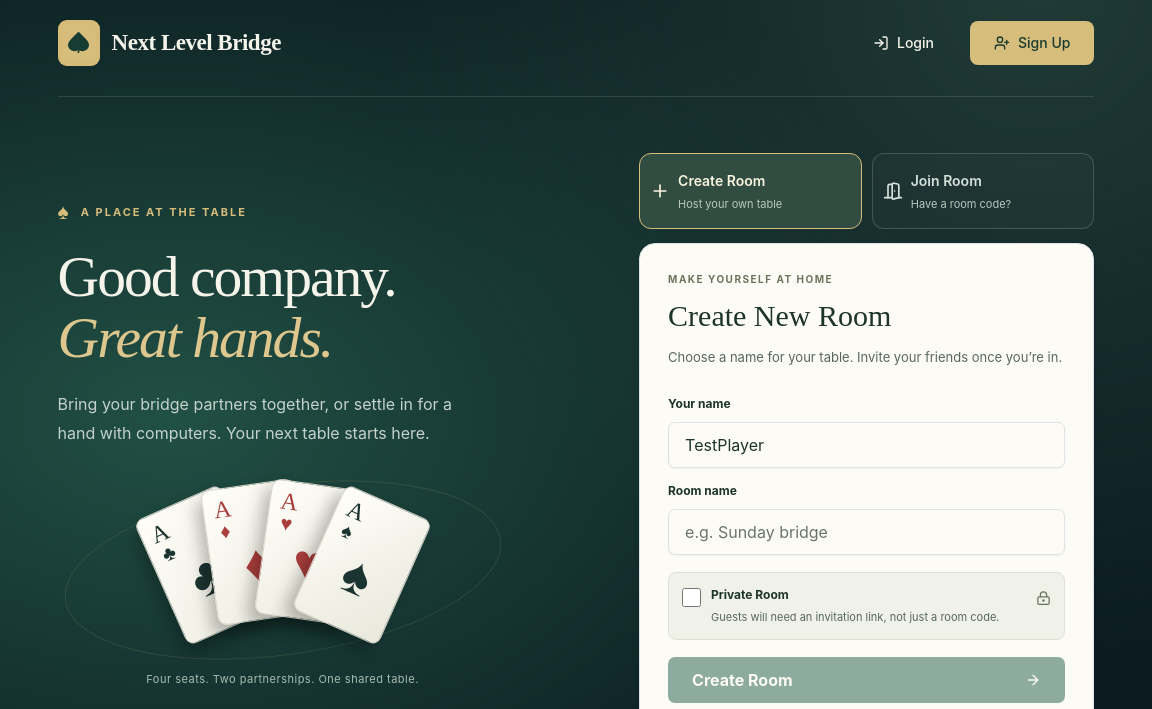
Scenario: RoomManager › Tab Navigation › switches back to create room tab
Step 1. Click the button with test id "join-room-tab" → (983, 191), box [872, 153, 1094, 229]
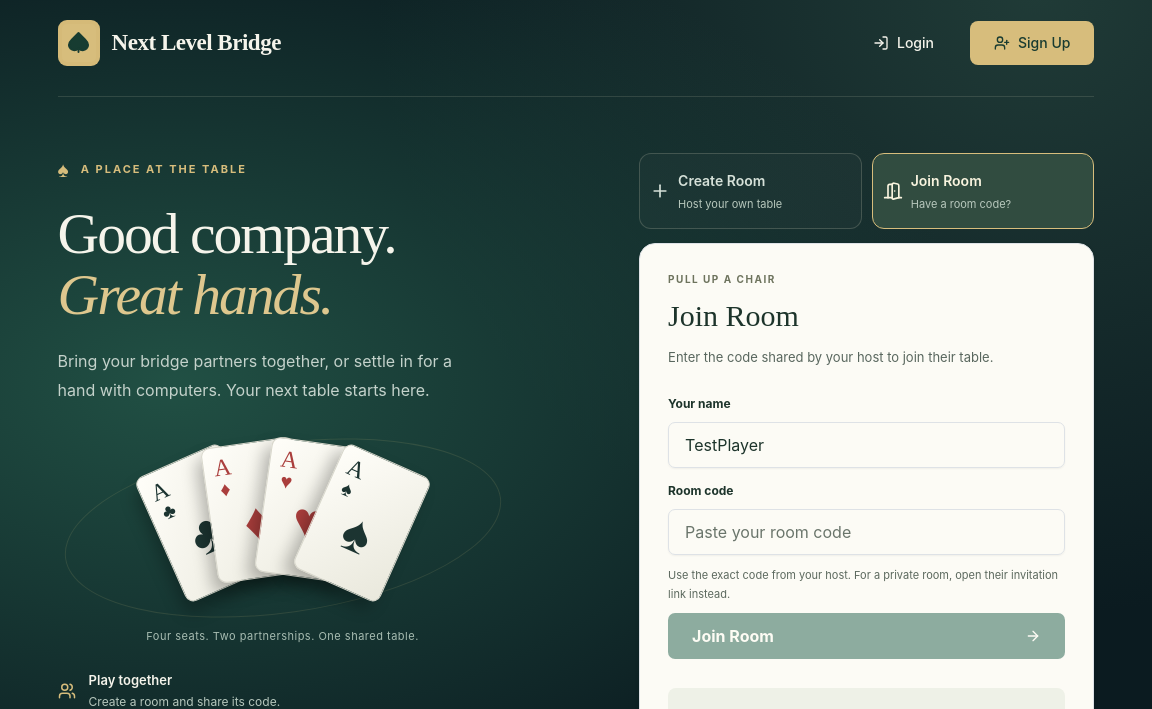
Step 2. Click the button with test id "create-room-tab" → (750, 191), box [639, 153, 862, 229]
(page scrolled)
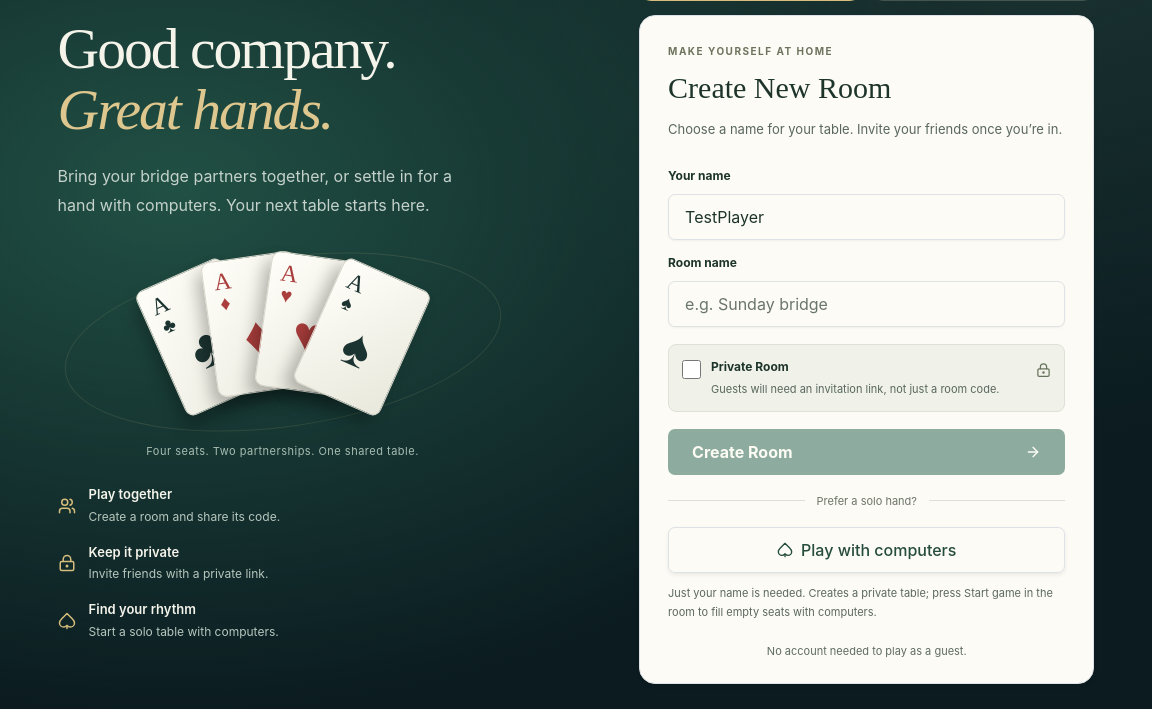
Expected: the element with test id "create-room-card" is shown, [639, 15, 1094, 684]
